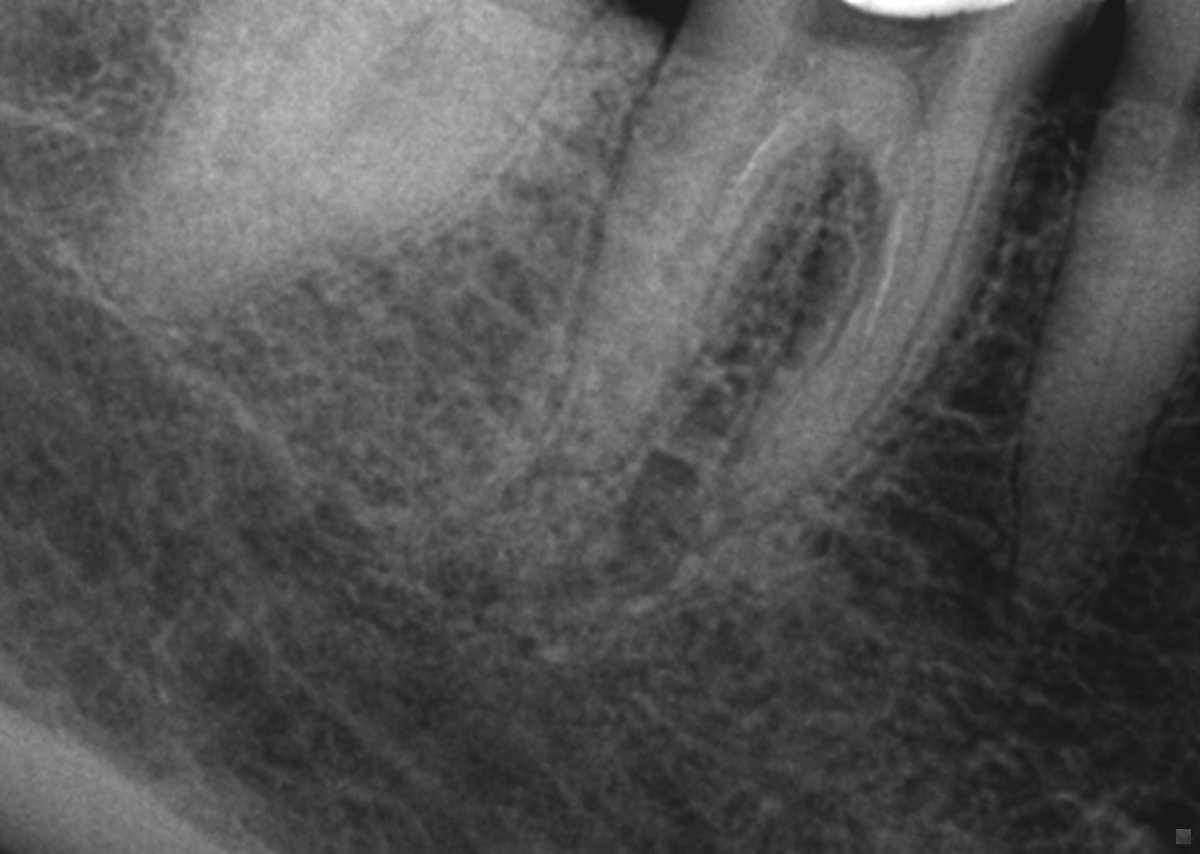Apical Lesion: (624, 380, 745, 594)
Distal Root: (532, 31, 860, 474)
Main Canal: (1034, 126, 1191, 615)
Main Root: (96, 0, 592, 321), (1015, 106, 1200, 621)
Mesial Root: (697, 72, 1039, 533)
